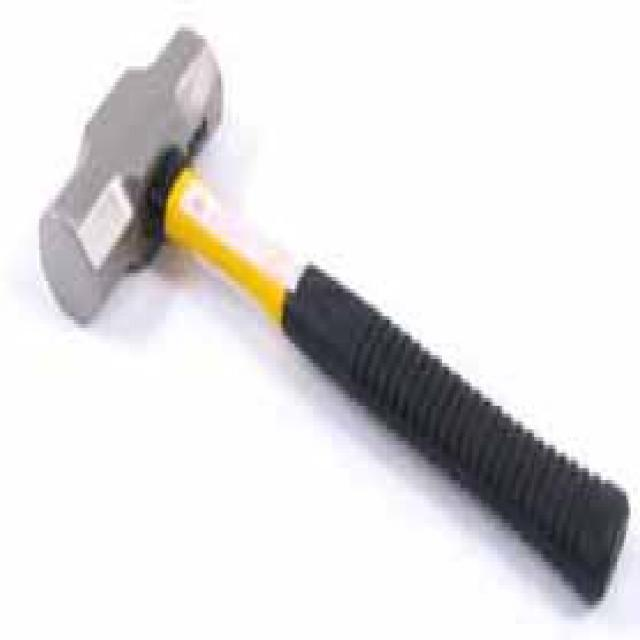hammer: (24, 9, 635, 624)
